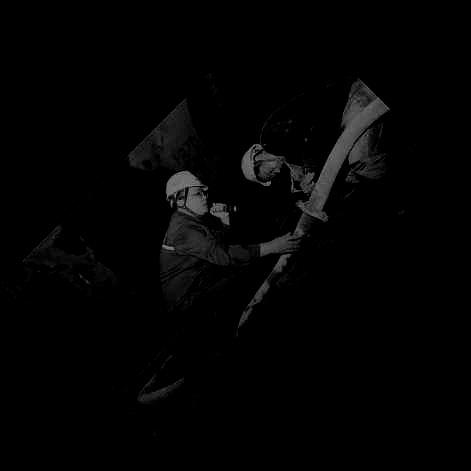helmet: (165, 171, 210, 216), (241, 143, 281, 186)
